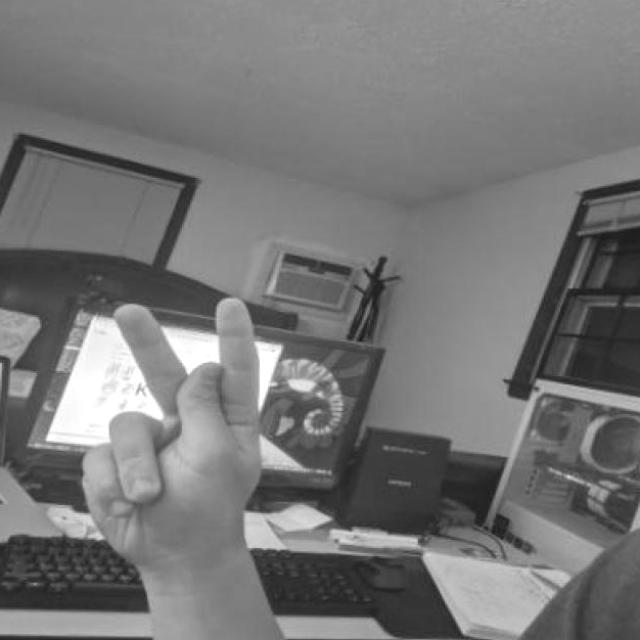K: (74, 283, 278, 587)
